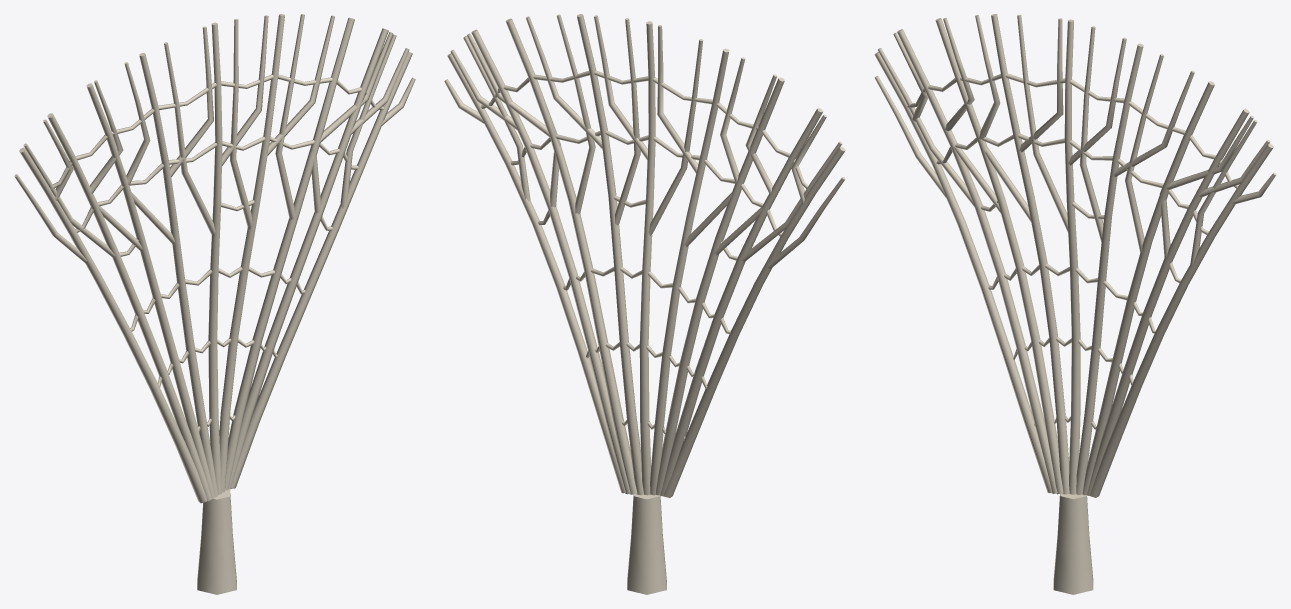
The model's file is coral_fan.glb.
The picture shows the model from 3 angles, left to right: view 1: azimuth 30°, elevation 25°; view 2: azimuth 150°, elevation 25°; view 3: azimuth 330°, elevation 25°; orthographic projection.
Parts seen in each view (by area): view 1: coral_fan; view 2: coral_fan; view 3: coral_fan.
Part boxes in pixels (x1,y1,x2,y2): coral_fan: [14, 14, 415, 594]; coral_fan: [444, 14, 845, 594]; coral_fan: [874, 14, 1276, 594].
Bounding box in the file's own units: 0.909 × 1.22 × 0.0779.
